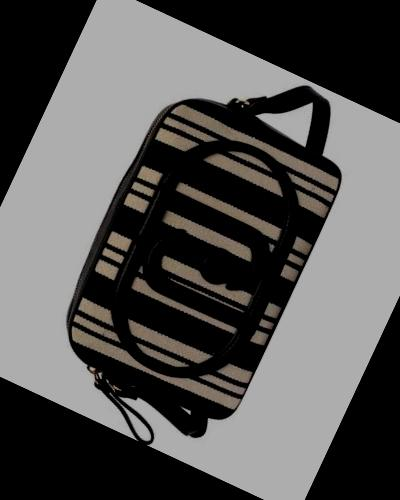LIU-JO: (118, 181, 294, 334)
